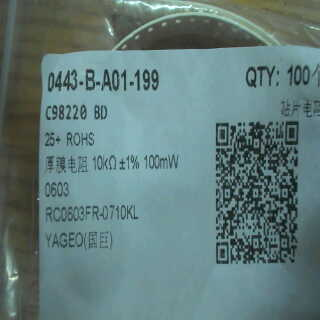10kR: (87, 150, 120, 174)
